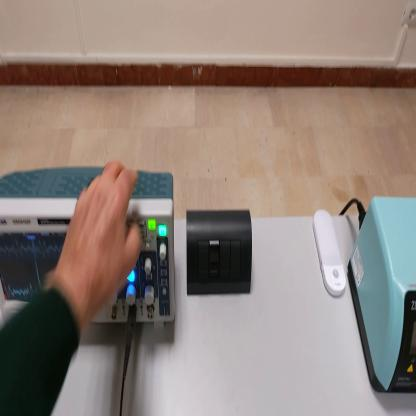hand: (57, 161, 142, 315)
oscilloscope: (2, 163, 177, 328)
welder station: (347, 196, 416, 395)
